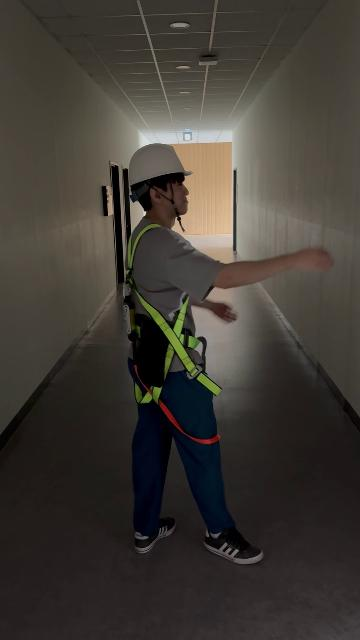helmet_worn: (127, 143, 193, 189)
shoe_not_worn: (204, 527, 264, 565), (134, 517, 176, 554)
vest_worn: (122, 223, 223, 425)
